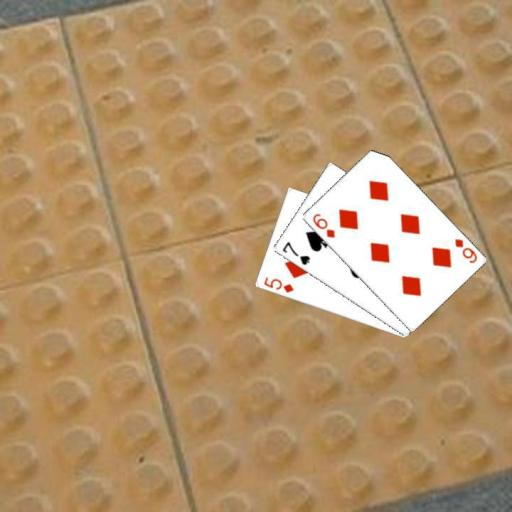5D: (260, 274, 295, 294)
6D: (310, 210, 337, 239), (452, 236, 479, 265)
7S: (279, 238, 311, 267)
